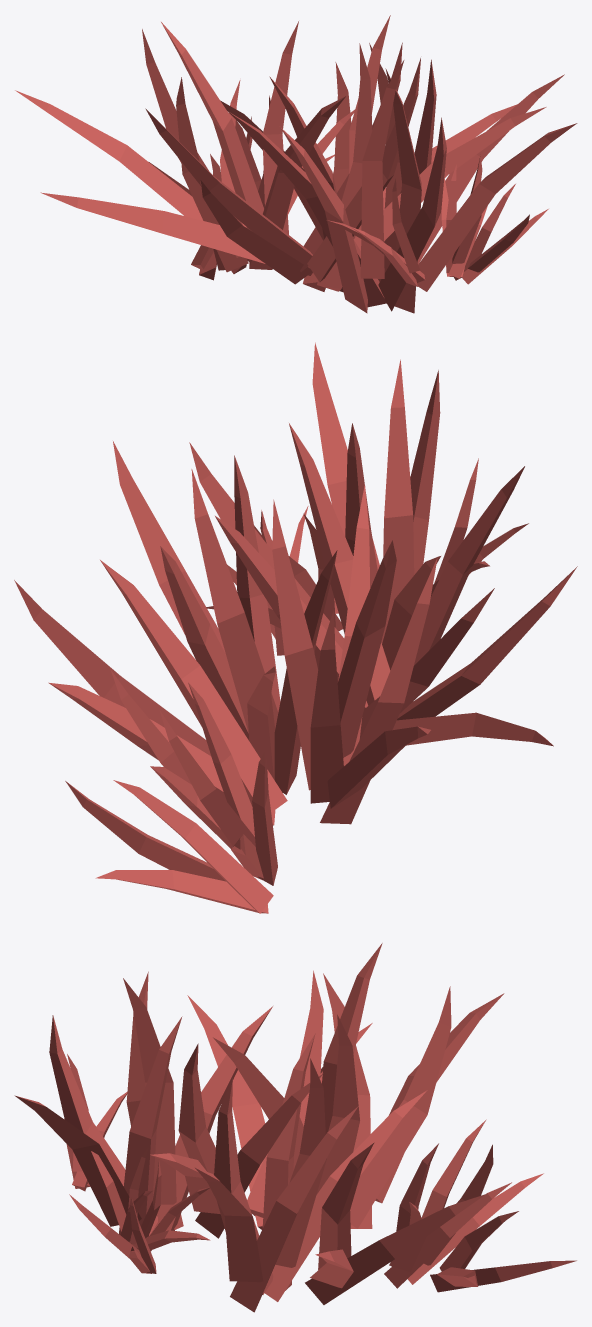
File: plantherbe.fbx
3 views of the same model, one above another, from view 1: azimuth 30°, elevation 25°; view 2: azimuth 150°, elevation 25°; view 3: azimuth 270°, elevation 25° (orthographic). The views are drawn at different scales.
Parts seen in each view (by area): view 1: SmallAlienGrass3; view 2: SmallAlienGrass3; view 3: SmallAlienGrass3.
Part boxes in pixels (left/top/right/bottom): SmallAlienGrass3: left=15, top=15, right=577, bottom=313; SmallAlienGrass3: left=14, top=342, right=577, bottom=913; SmallAlienGrass3: left=14, top=943, right=576, bottom=1312.
Size of the model in its own units: 357 by 240 by 366.
